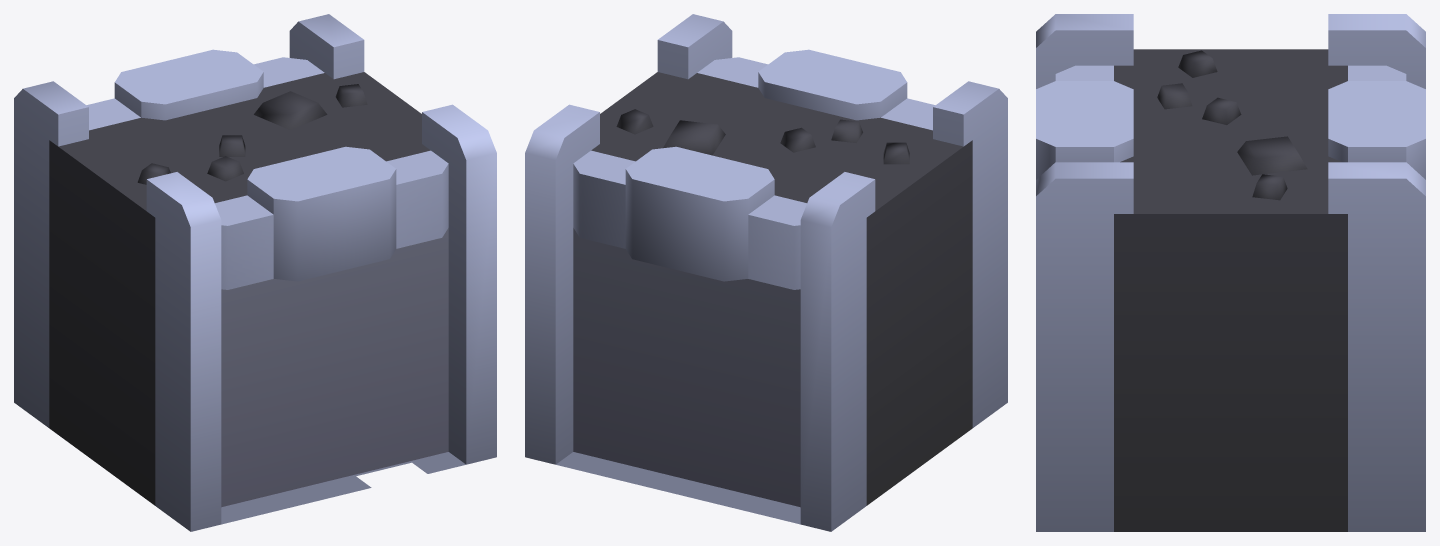
Rendered from wall-narrow.001_lev4.glb.
3 renders of one model, left to right at view 1: azimuth 30°, elevation 25°; view 2: azimuth 150°, elevation 25°; view 3: azimuth 270°, elevation 25°, orthographic. The views are drawn at different scales.
Visible parts, largest first — view 1: wall-narrow.001_lev4; view 2: wall-narrow.001_lev4; view 3: wall-narrow.001_lev4.
Part boxes in pixels (bbox=[...]): wall-narrow.001_lev4: bbox=[14, 14, 496, 531]; wall-narrow.001_lev4: bbox=[525, 14, 1007, 531]; wall-narrow.001_lev4: bbox=[1036, 14, 1425, 531].
Bounding box in the file's own units: 10.95 × 10.95 × 10.95.
1 material, 1 textured.
